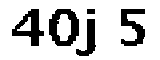0: (47, 6, 80, 49)
4: (8, 5, 47, 49)
5: (114, 7, 150, 51)
j: (80, 5, 104, 59)
